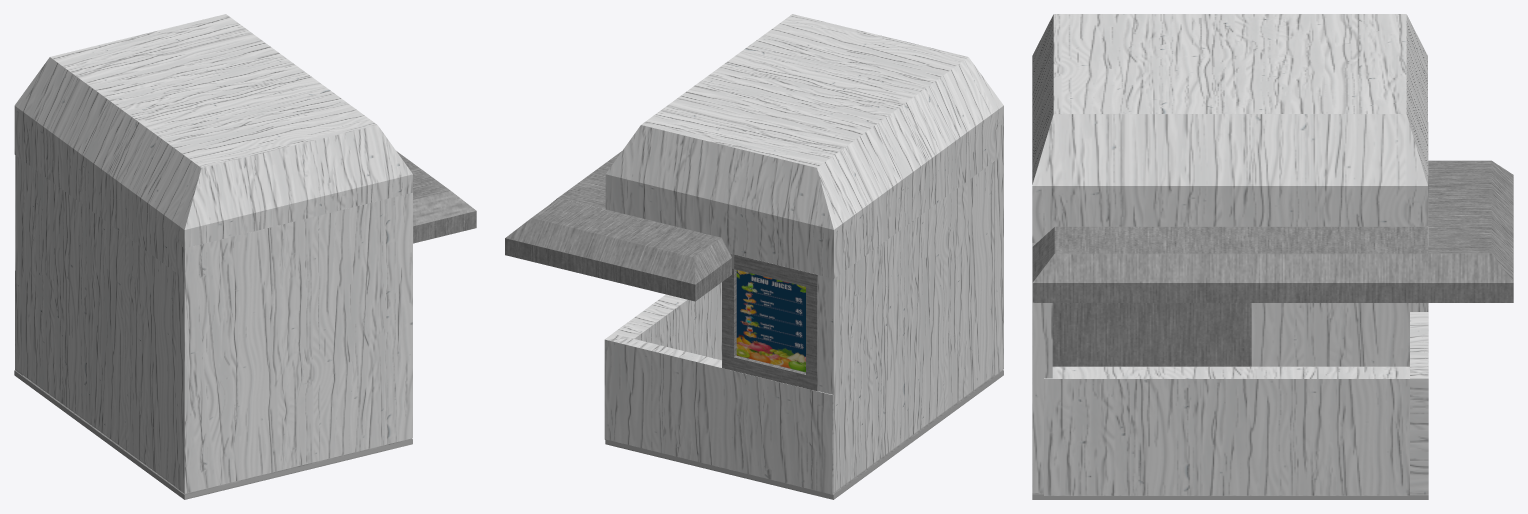
The model's file is juice shop.fbx.
3 renders of one model, left to right at view 1: azimuth 30°, elevation 25°; view 2: azimuth 150°, elevation 25°; view 3: azimuth 270°, elevation 25°, orthographic. The views are drawn at different scales.
Visible parts, largest first — view 1: pCube4510; view 2: pCube4510; view 3: pCube4510.
Boxes of the visible parts, box(x1,y1,x2,y2) form: pCube4510: box(14, 14, 476, 499); pCube4510: box(505, 14, 1003, 499); pCube4510: box(1032, 14, 1513, 499).
Bounding box in the file's own units: 4.82 × 5.02 × 5.9.
Materials: 3 (2 with a texture image).
